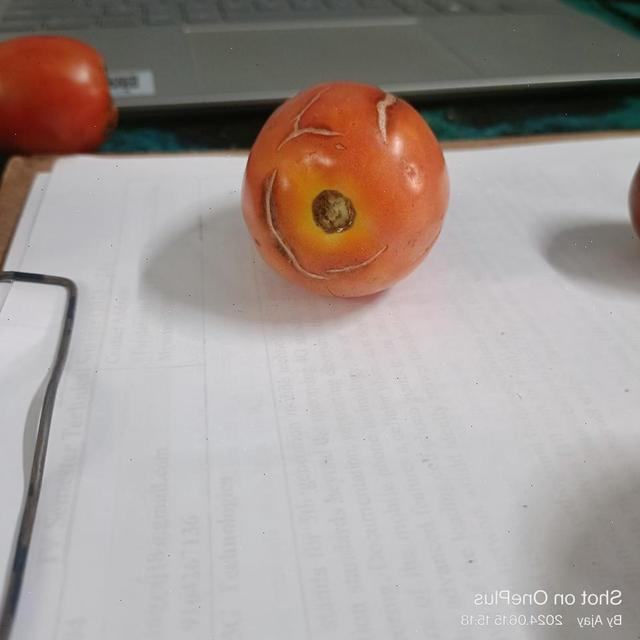Cracking Fruit: (184, 58, 218, 183)
